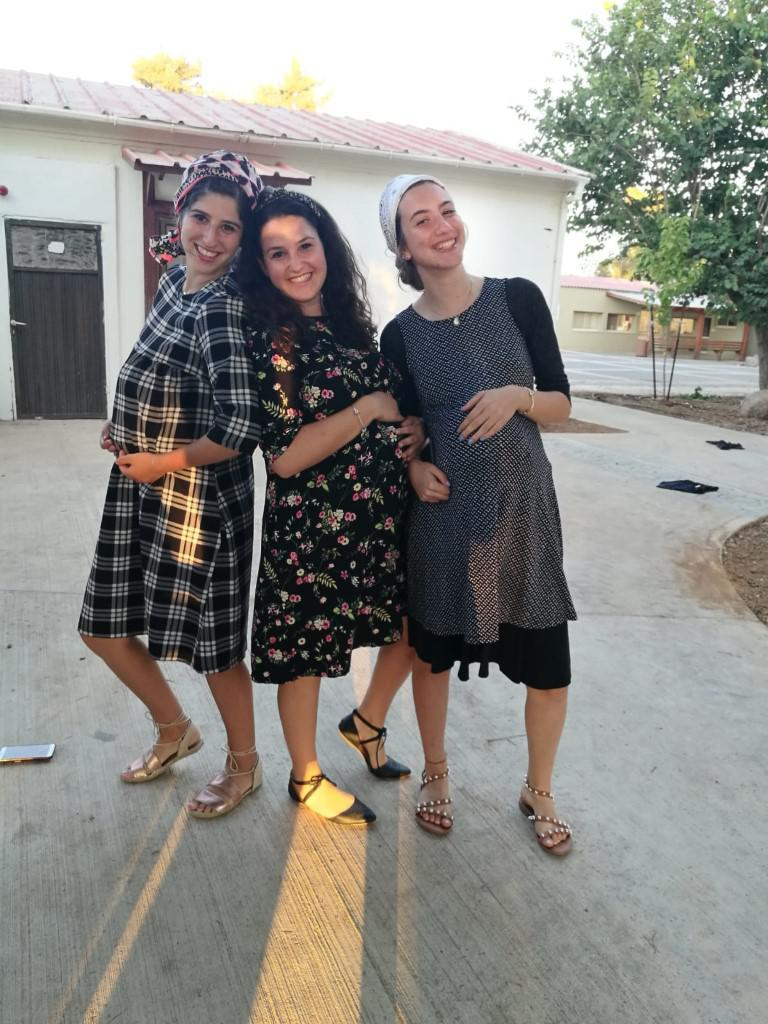Person: (374, 161, 598, 877), (71, 146, 276, 827), (239, 186, 424, 835)
